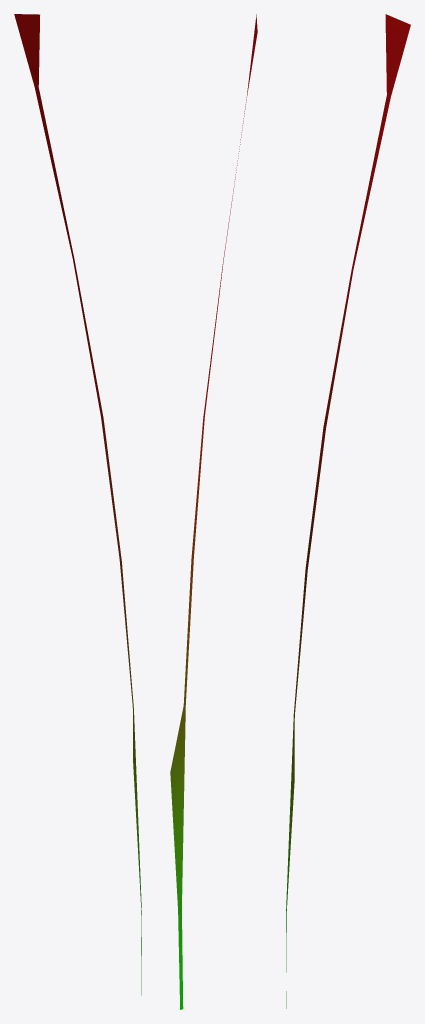
File: Tundra Grass_LOD6_Var36_wk2oaeyqx.fbx
The picture shows the model from 3 angles, left to right: view 1: azimuth 90°, elevation 25°; view 2: azimuth 210°, elevation 25°; view 3: azimuth 270°, elevation 25°; orthographic projection. The views are drawn at different scales.
Visible parts, largest first — view 1: _th1c_Var36_LOD6; view 2: _th1c_Var36_LOD6; view 3: _th1c_Var36_LOD6.
Part boxes in pixels (box(x1,y1,x2,y2)): _th1c_Var36_LOD6: box(14, 14, 141, 995); _th1c_Var36_LOD6: box(170, 14, 257, 1009); _th1c_Var36_LOD6: box(286, 14, 410, 1008).
Bounding box in the file's own units: 1.62 × 41.07 × 4.73.
